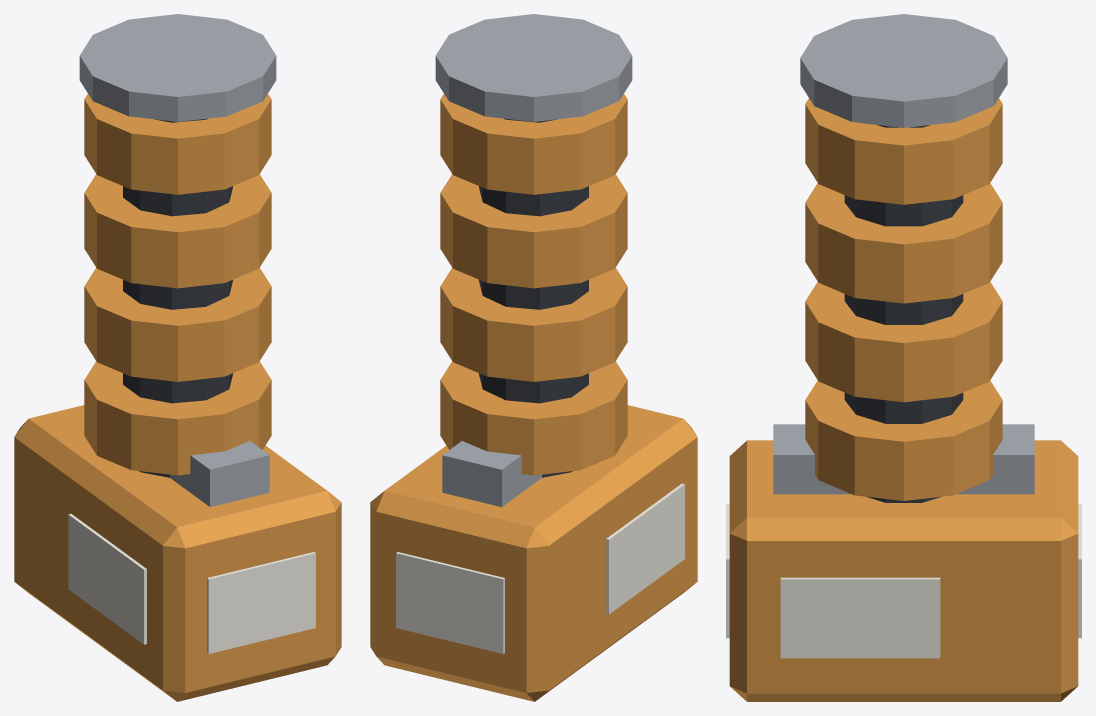
File: artillery_m1_1.glb
3 renders of one model, left to right at view 1: azimuth 30°, elevation 25°; view 2: azimuth 150°, elevation 25°; view 3: azimuth 270°, elevation 25°, orthographic. The views are drawn at different scales.
Parts seen in each view (by area): view 1: artillery_m1_1_mesh; view 2: artillery_m1_1_mesh; view 3: artillery_m1_1_mesh.
Boxes of the visible parts, left/top/right/bottom form: artillery_m1_1_mesh: left=14, top=14, right=341, bottom=701; artillery_m1_1_mesh: left=370, top=14, right=697, bottom=701; artillery_m1_1_mesh: left=726, top=14, right=1081, bottom=701.
Size of the model in its own units: 0.155 by 0.46 by 0.245.
